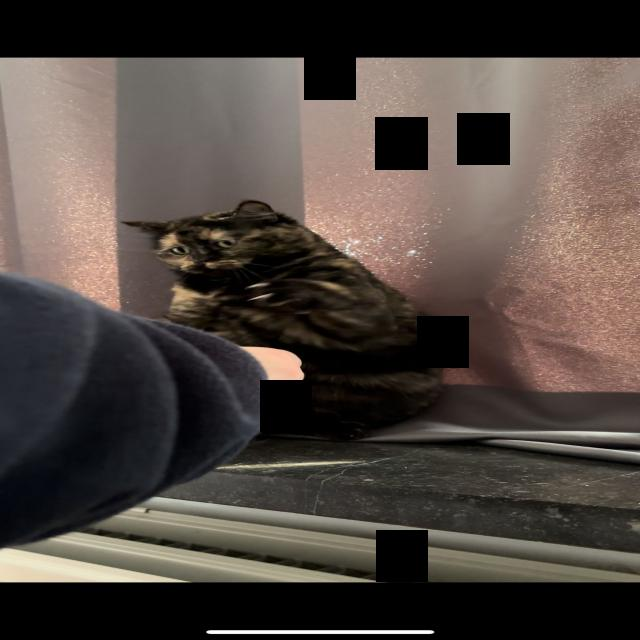authorized: (119, 199, 444, 441)
